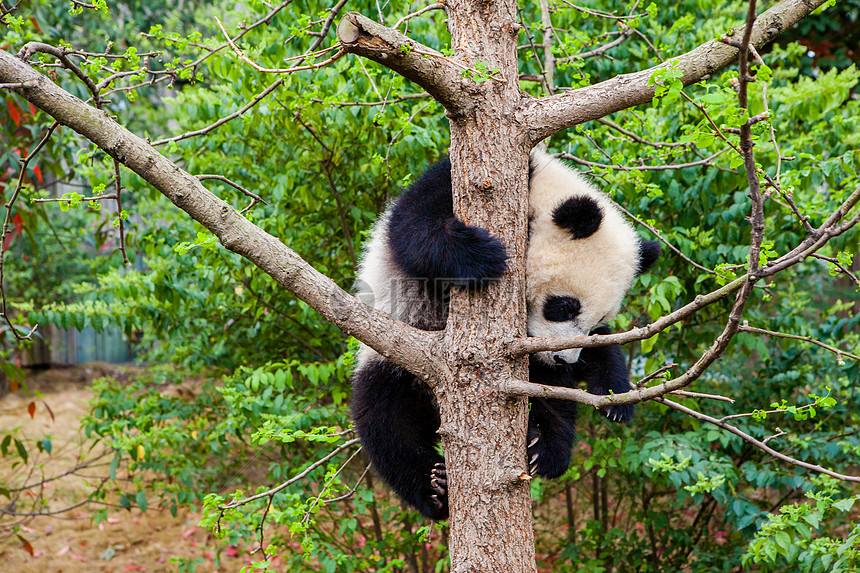panda: (312, 124, 669, 500)
